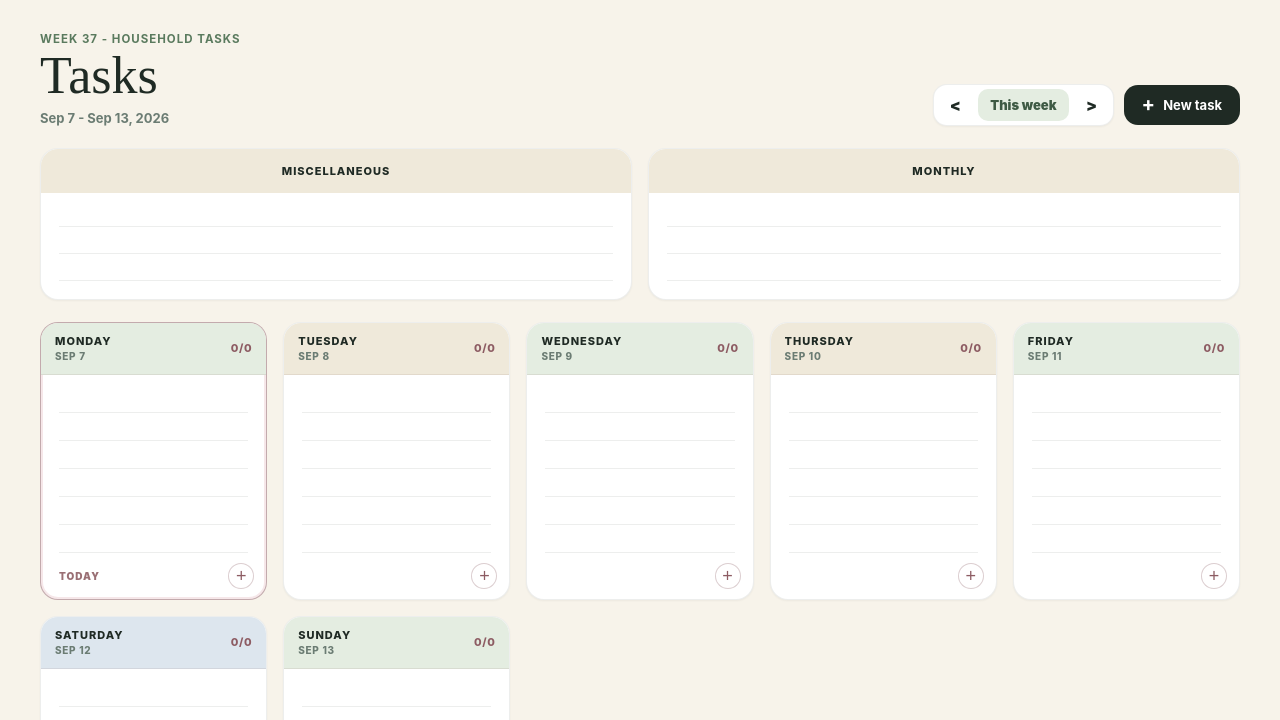
Test: TodoTasks › the new task form offers Monthly and a No deadline switch
What coordinates should you click on to do the following:
click the button "+ New task"
I would click on:
 (1182, 105)
Its box is [1124, 85, 1240, 125].
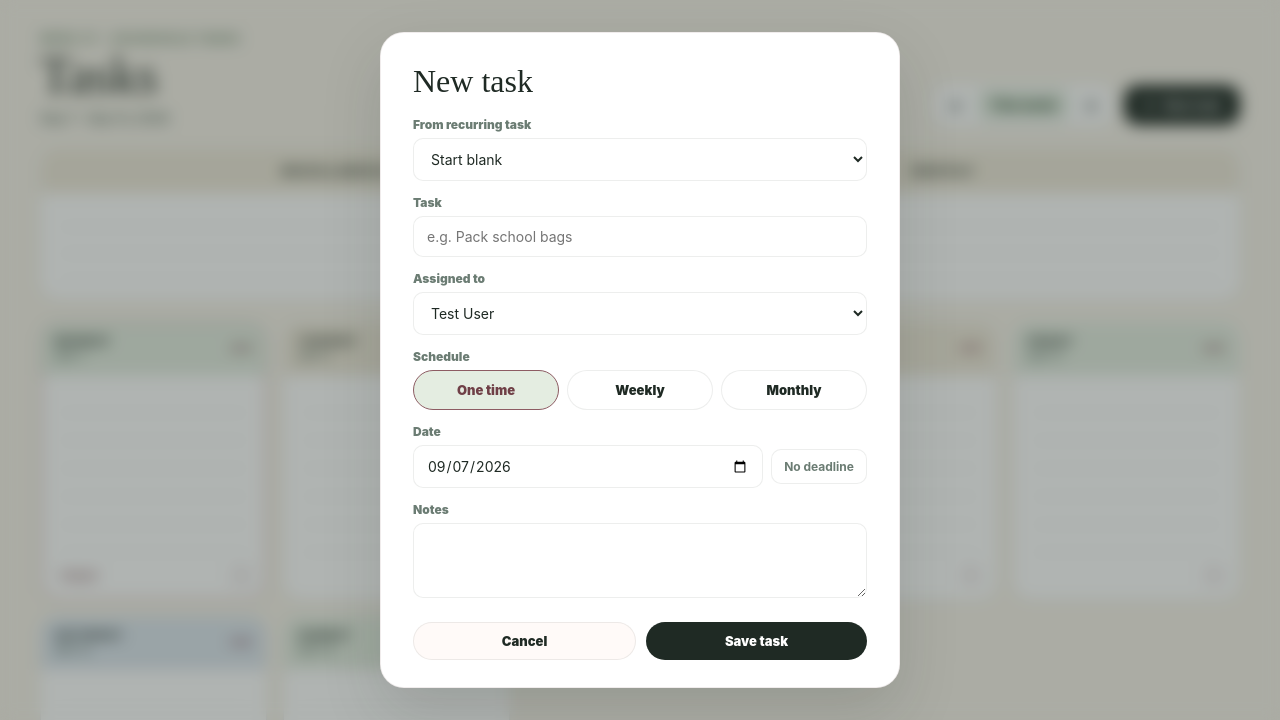
Check: the button "Monthly" is shown, box [721, 370, 867, 410]
Check: the button "Weekly" is shown, box [567, 370, 713, 410]
What coordinates should you click on to do the following:
click the button "No deadline"
I would click on:
 (819, 466)
Its box is [771, 449, 867, 484].
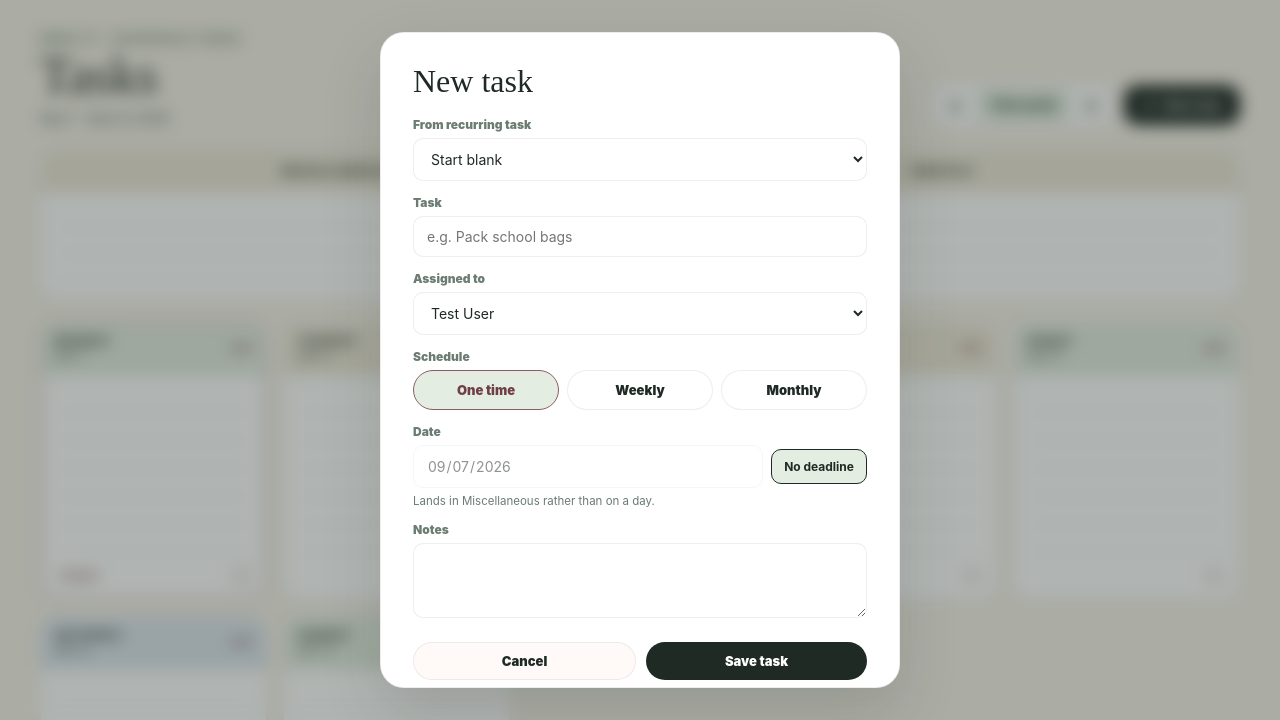
Check: the text "Lands in Miscellaneous rather than on a day." is shown, box [413, 494, 655, 508]
